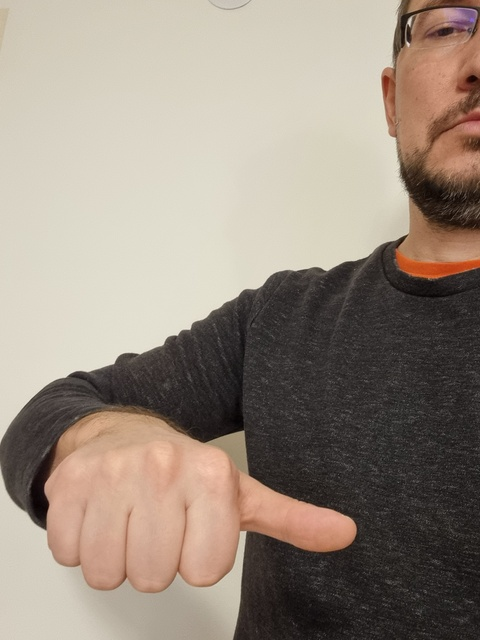GestBack: (47, 440, 358, 594)
